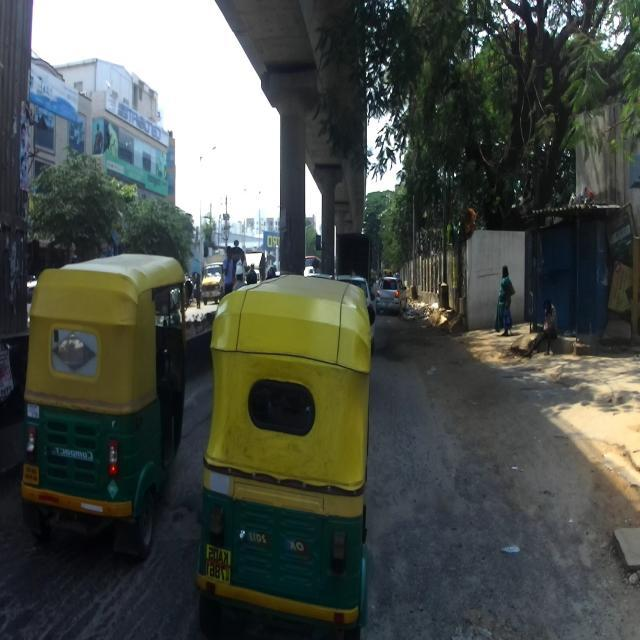pothole: (0, 573, 113, 640), (435, 559, 510, 640), (584, 370, 630, 444), (164, 484, 196, 576)
